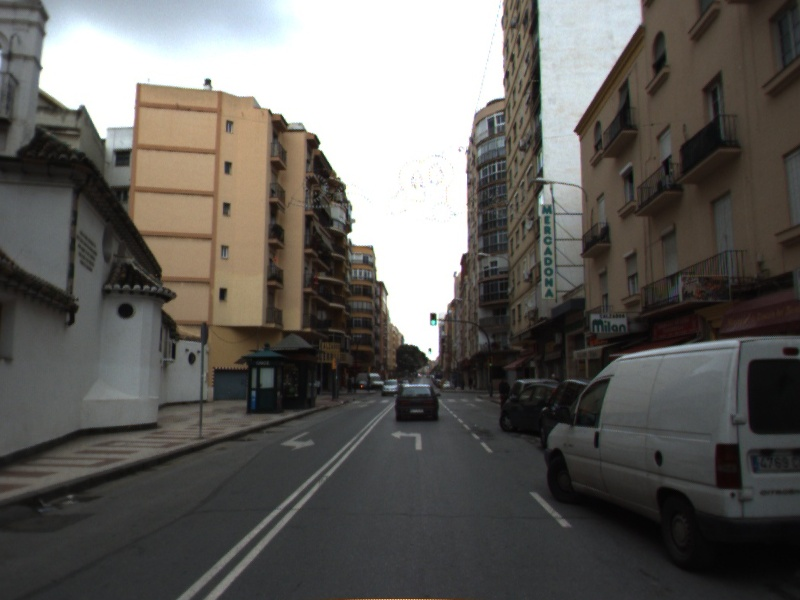LEFT: (390, 429, 423, 451)
